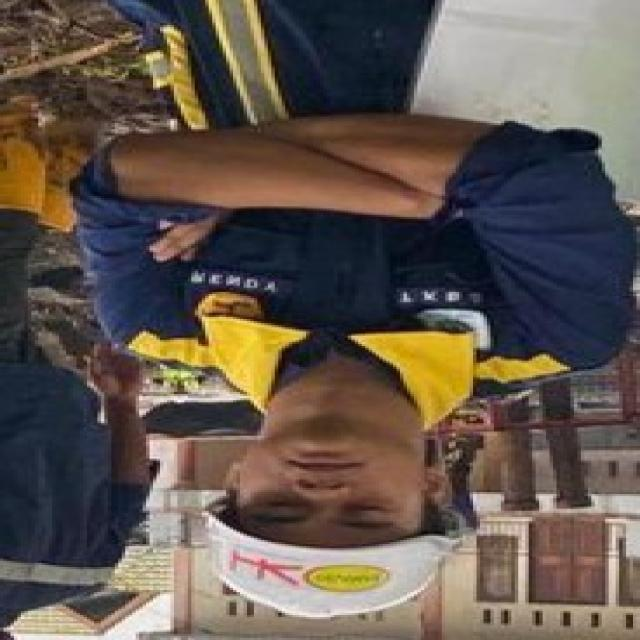safetyhelmet: (200, 458, 467, 624)
